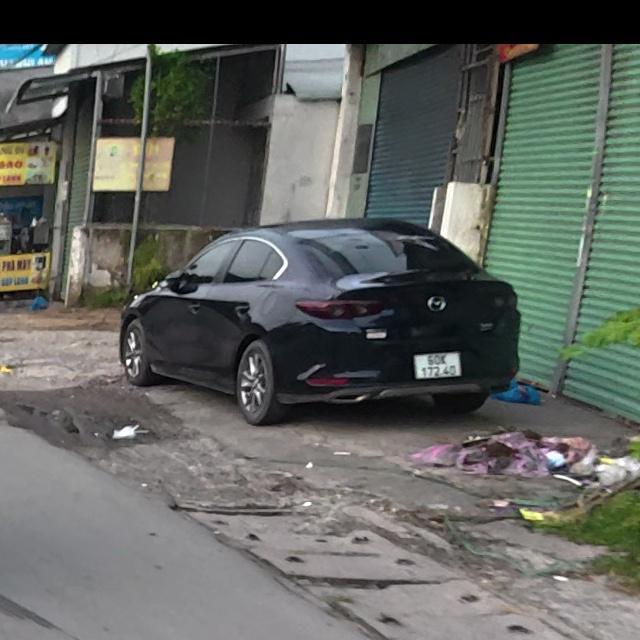car: (120, 216, 524, 437)
plate: (407, 340, 468, 386)
